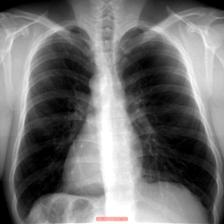tuberculosis: (3, 16, 220, 224)
